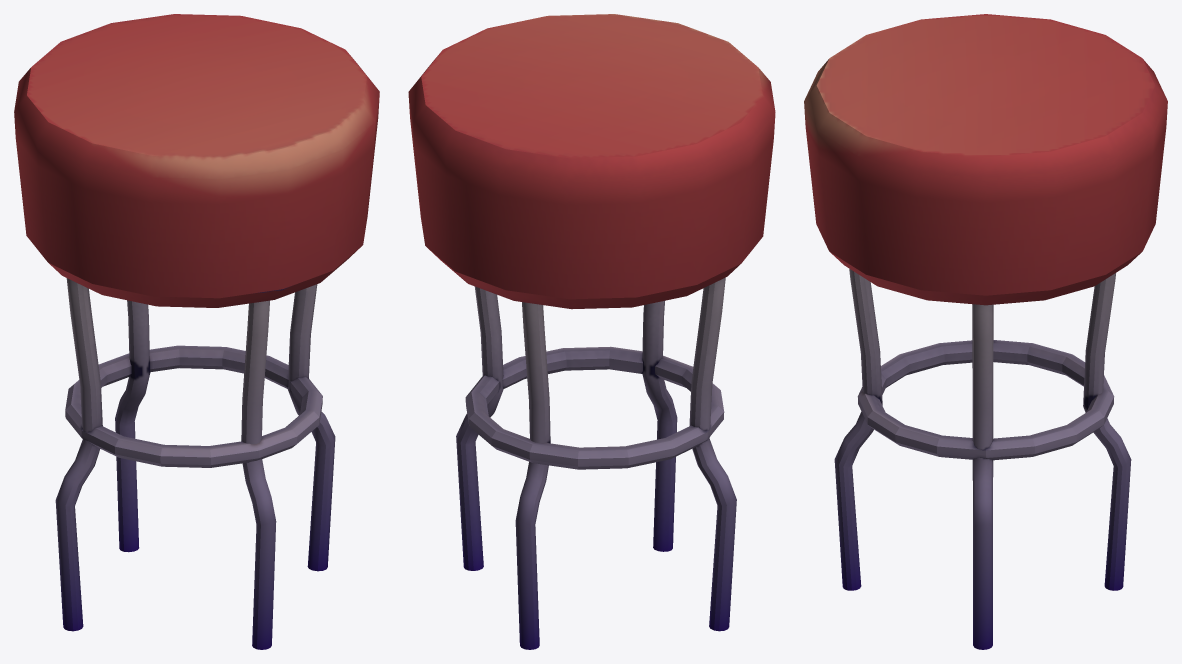
The model's file is stool_mesh.fbx.
3 views of the same model, side by side, from view 1: azimuth 30°, elevation 25°; view 2: azimuth 150°, elevation 25°; view 3: azimuth 270°, elevation 25° (orthographic).
Parts seen in each view (by area): view 1: polySurface315; view 2: polySurface315; view 3: polySurface315.
Boxes of the visible parts, <box> form: polySurface315: <box>14,14,379,649</box>; polySurface315: <box>408,14,775,649</box>; polySurface315: <box>804,14,1167,649</box>.
Size of the model in its own units: 2.21 by 3.41 by 2.21.
